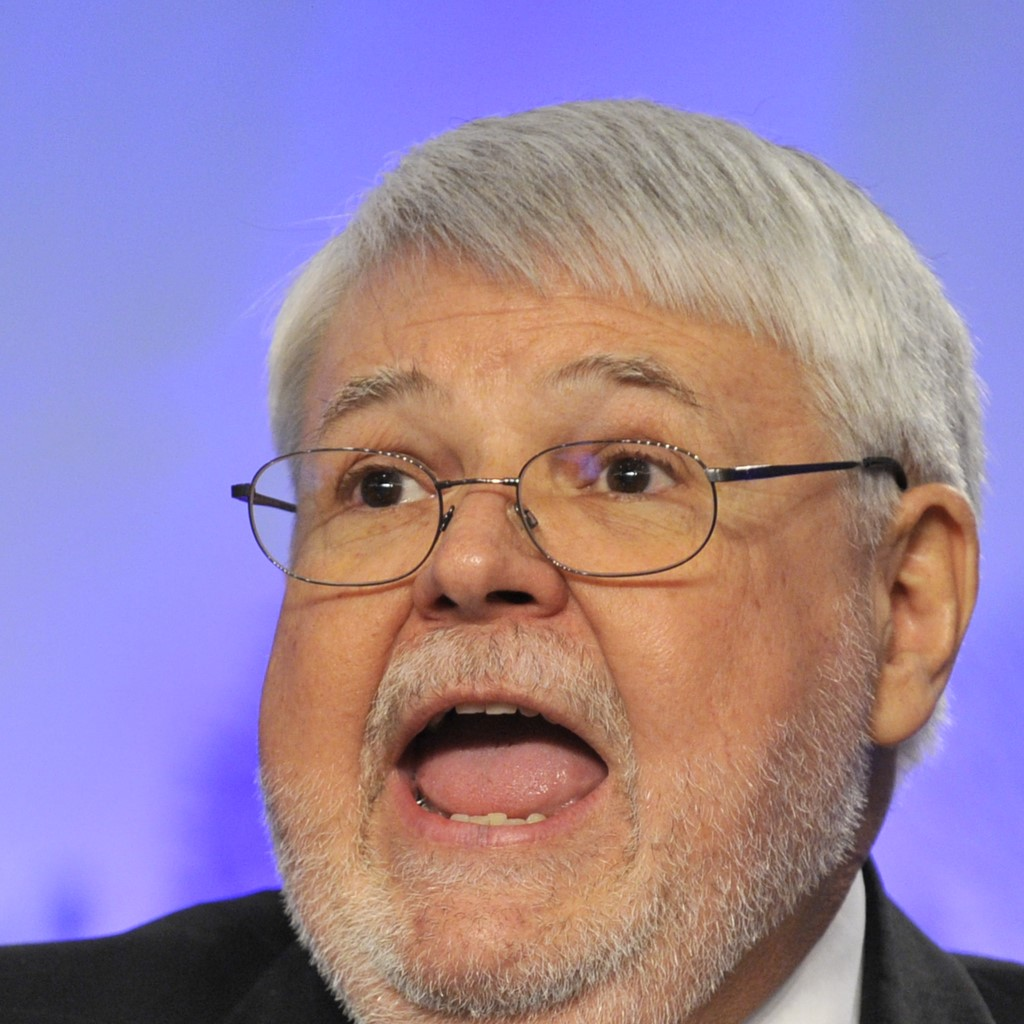sin_mascara: (266, 207, 843, 1018)
